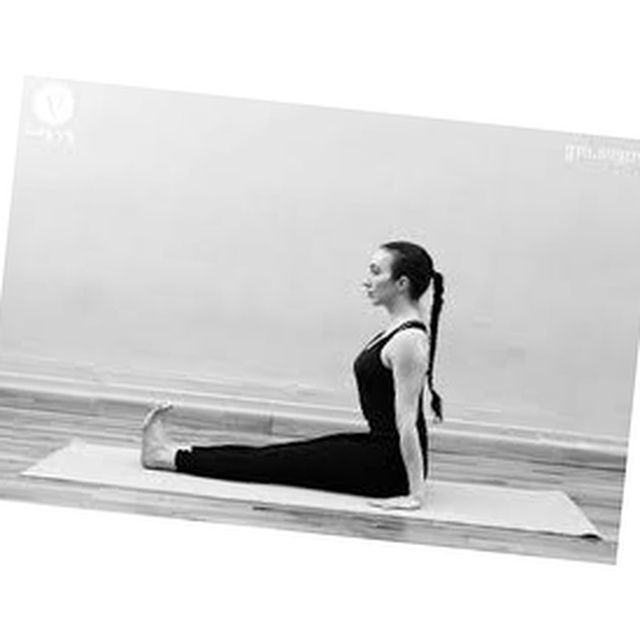Staff_Pose: (140, 241, 445, 512)
